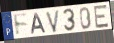0: (79, 6, 92, 31)
3: (62, 8, 77, 32)
A: (31, 12, 47, 35)
E: (93, 4, 110, 30)
F: (13, 13, 30, 38)
V: (45, 9, 61, 34)
